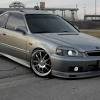Honda: (1, 9, 100, 79)
